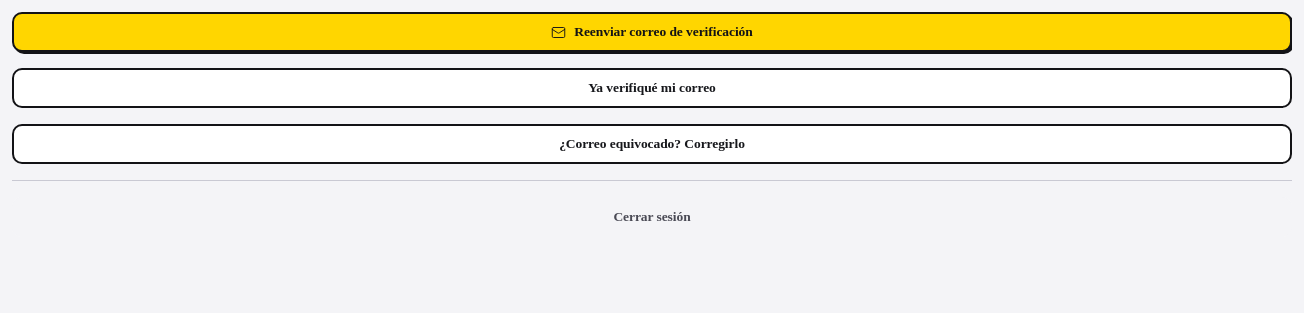
Test: ActivationPage — correcting a mistyped email (#1245) › reveals an inline field and submit only after the affordance is pressed
Check: the field labelled "correo correcto" is not shown
Click the button "¿Correo equivocado? Corregirlo". click: click(652, 144)
box: [12,124,1292,164]
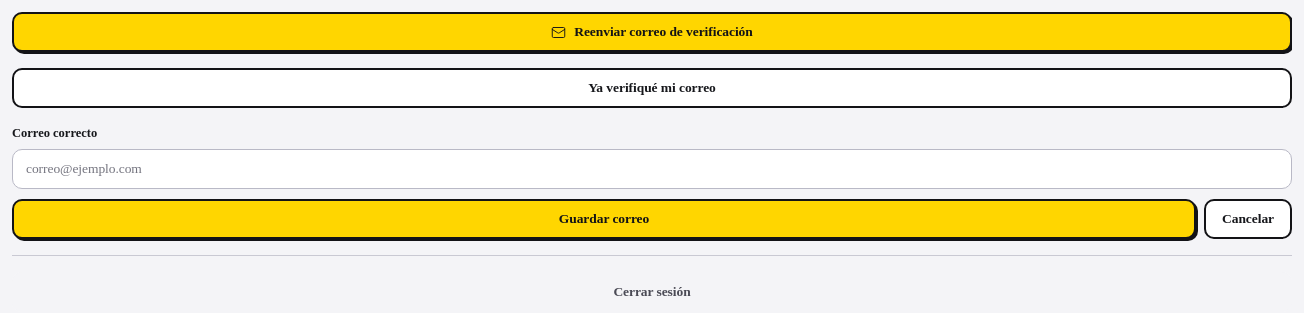
Check: the field labelled "Correo correcto" is shown, box [12,149,1292,189]
Check: the button "Guardar correo" is shown, box [12,199,1196,239]
